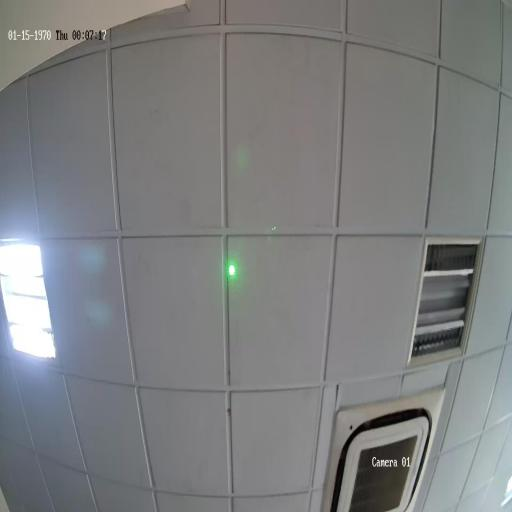laser: (228, 260, 236, 278)
